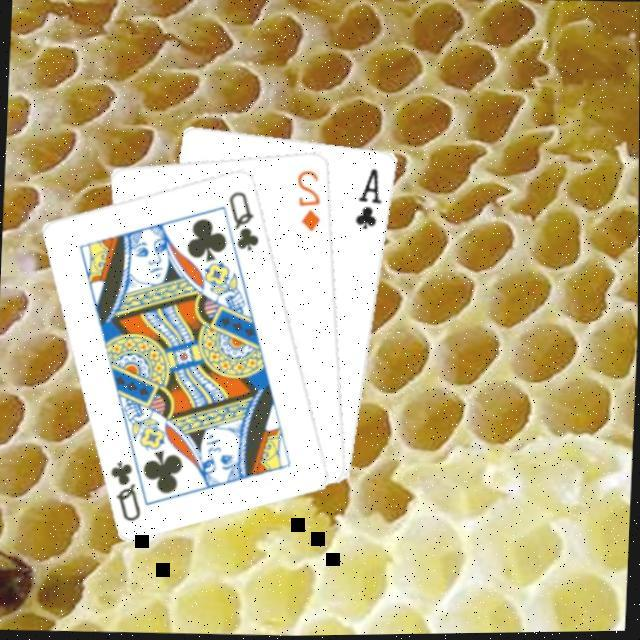2D: (291, 164, 323, 234)
AC: (350, 164, 384, 232)
QC: (104, 455, 145, 523), (222, 186, 262, 254)
